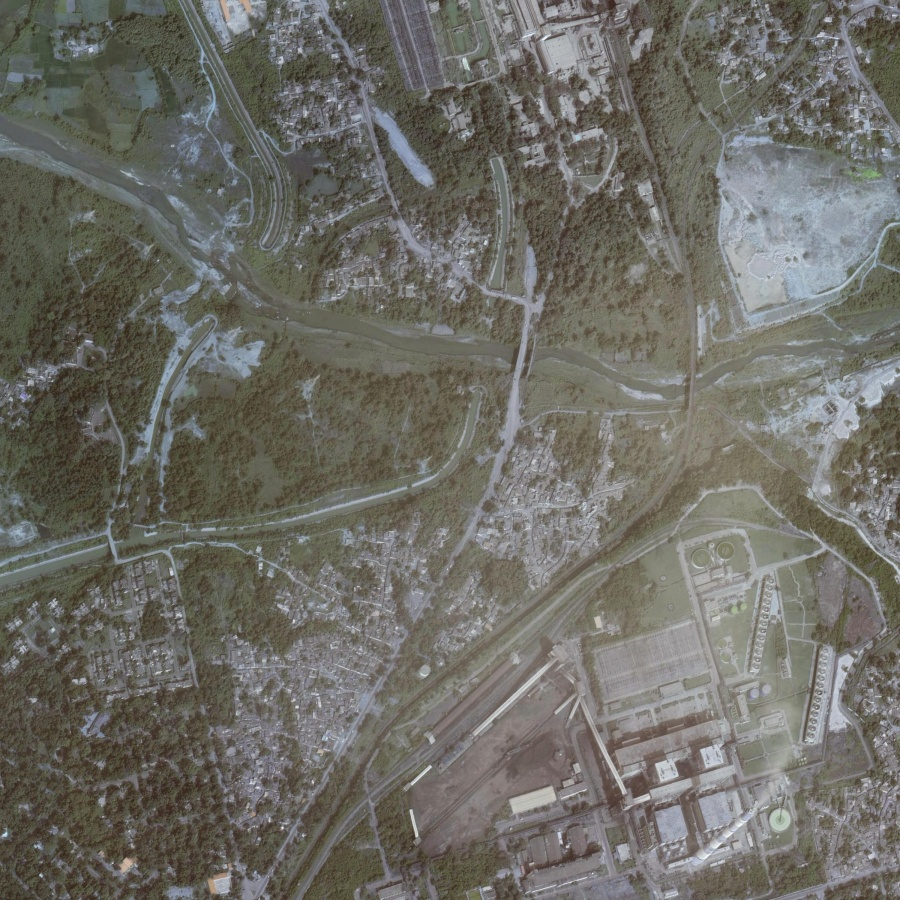PowerPlant: (406, 535, 848, 889)
